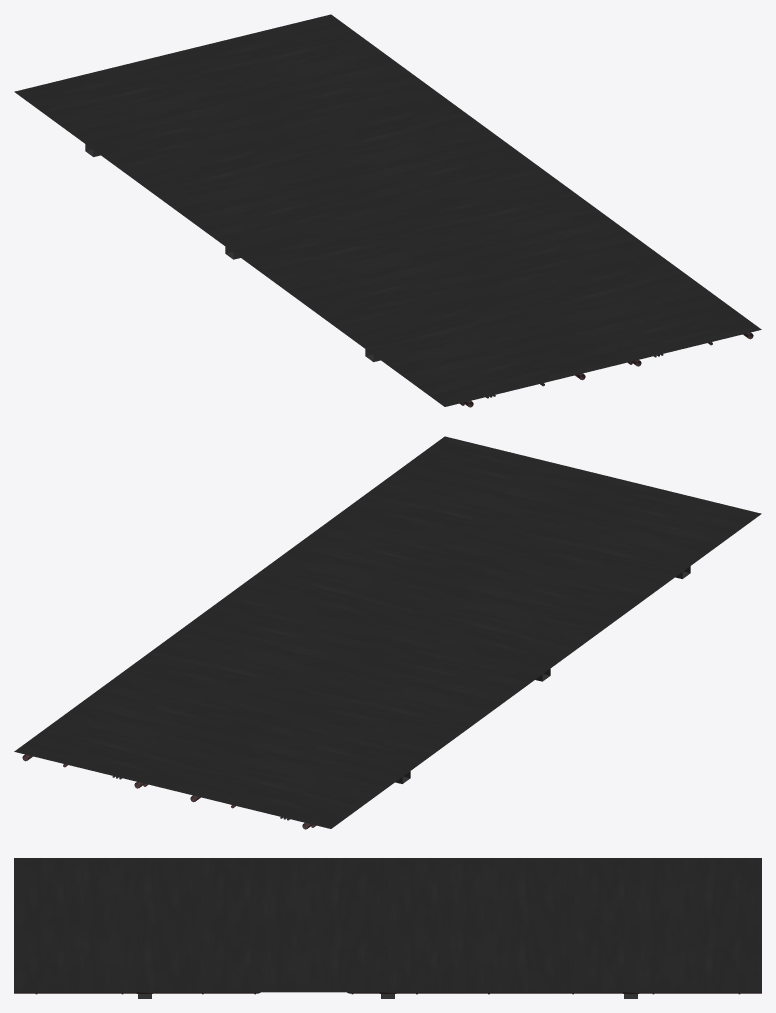
File: SW_ENV_RailTunnelCeiling_Double_20m_FF.fbx
3 renders of one model, top to bottom at view 1: azimuth 30°, elevation 25°; view 2: azimuth 150°, elevation 25°; view 3: azimuth 270°, elevation 25°, orthographic. The views are drawn at different scales.
Visible parts, largest first — view 1: SW_ENV_RailTunnelCeiling_Double_20m_FF; view 2: SW_ENV_RailTunnelCeiling_Double_20m_FF; view 3: SW_ENV_RailTunnelCeiling_Double_20m_FF.
Boxes of the visible parts, x1=… form: SW_ENV_RailTunnelCeiling_Double_20m_FF: x1=14, y1=14, x2=761, y2=407; SW_ENV_RailTunnelCeiling_Double_20m_FF: x1=14, y1=436, x2=761, y2=829; SW_ENV_RailTunnelCeiling_Double_20m_FF: x1=14, y1=858, x2=761, y2=998.
Size of the model in its own units: 8.5 by 0.2257 by 20.
